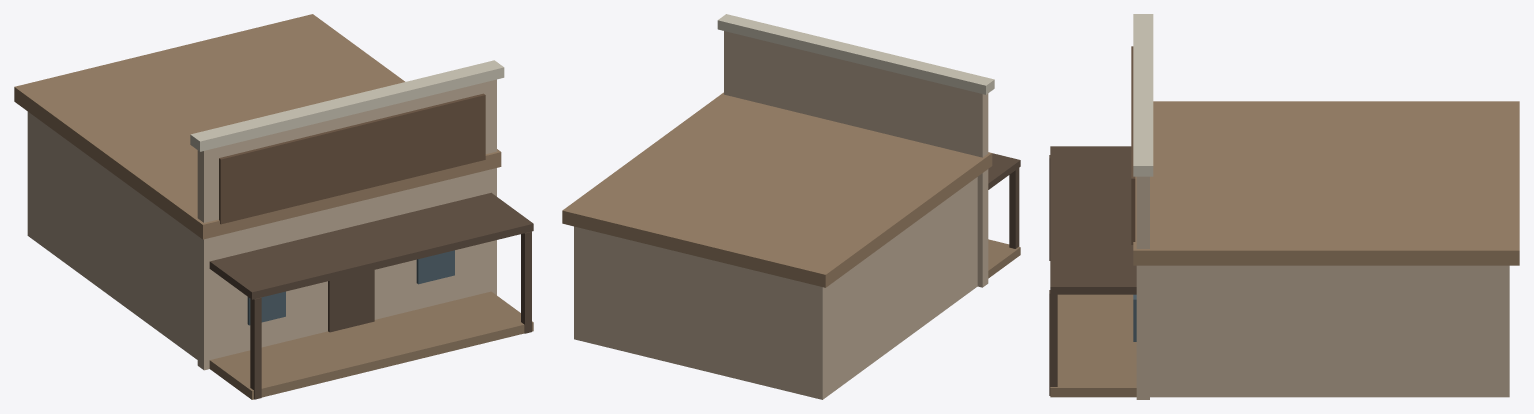
The model's file is w_laden_b.glb.
The picture shows the model from 3 angles, left to right: view 1: azimuth 30°, elevation 25°; view 2: azimuth 150°, elevation 25°; view 3: azimuth 270°, elevation 25°; orthographic projection. The views are drawn at different scales.
Parts seen in each view (by area): view 1: koerper; view 2: koerper; view 3: koerper.
Boxes of the visible parts, x1,y1,x2,y2 form: koerper: (14, 14, 533, 399); koerper: (562, 14, 1020, 399); koerper: (1049, 14, 1519, 399).
Bounding box in the file's own units: 10.8 × 7.85 × 14.12.
